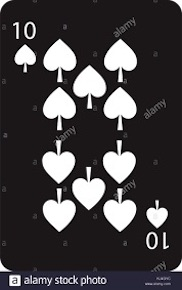TenOfSpades: (2, 3, 182, 273)
